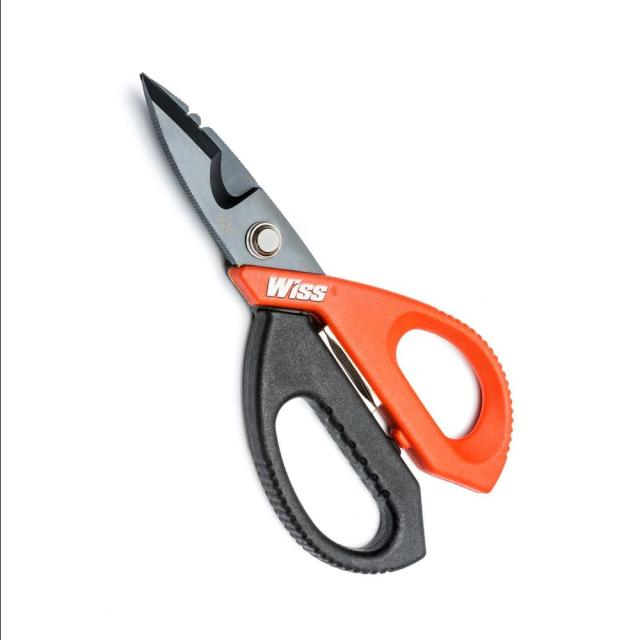scissor: (121, 55, 528, 581)
